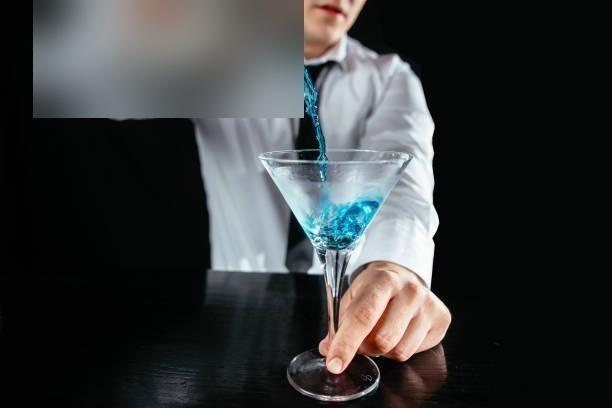glass-wine: (257, 146, 410, 402)
